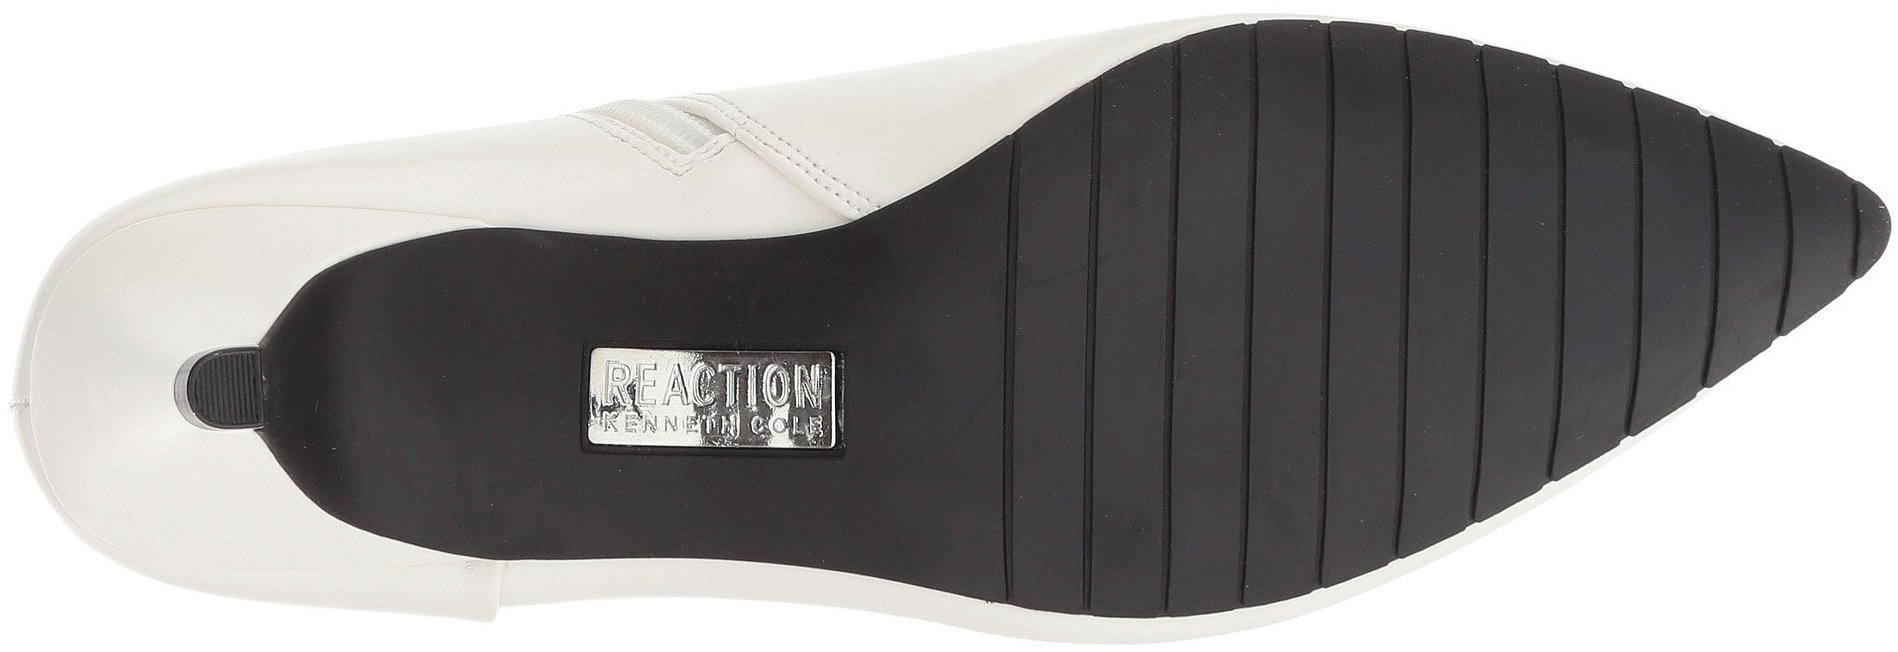line: (1041, 125, 1439, 479)
